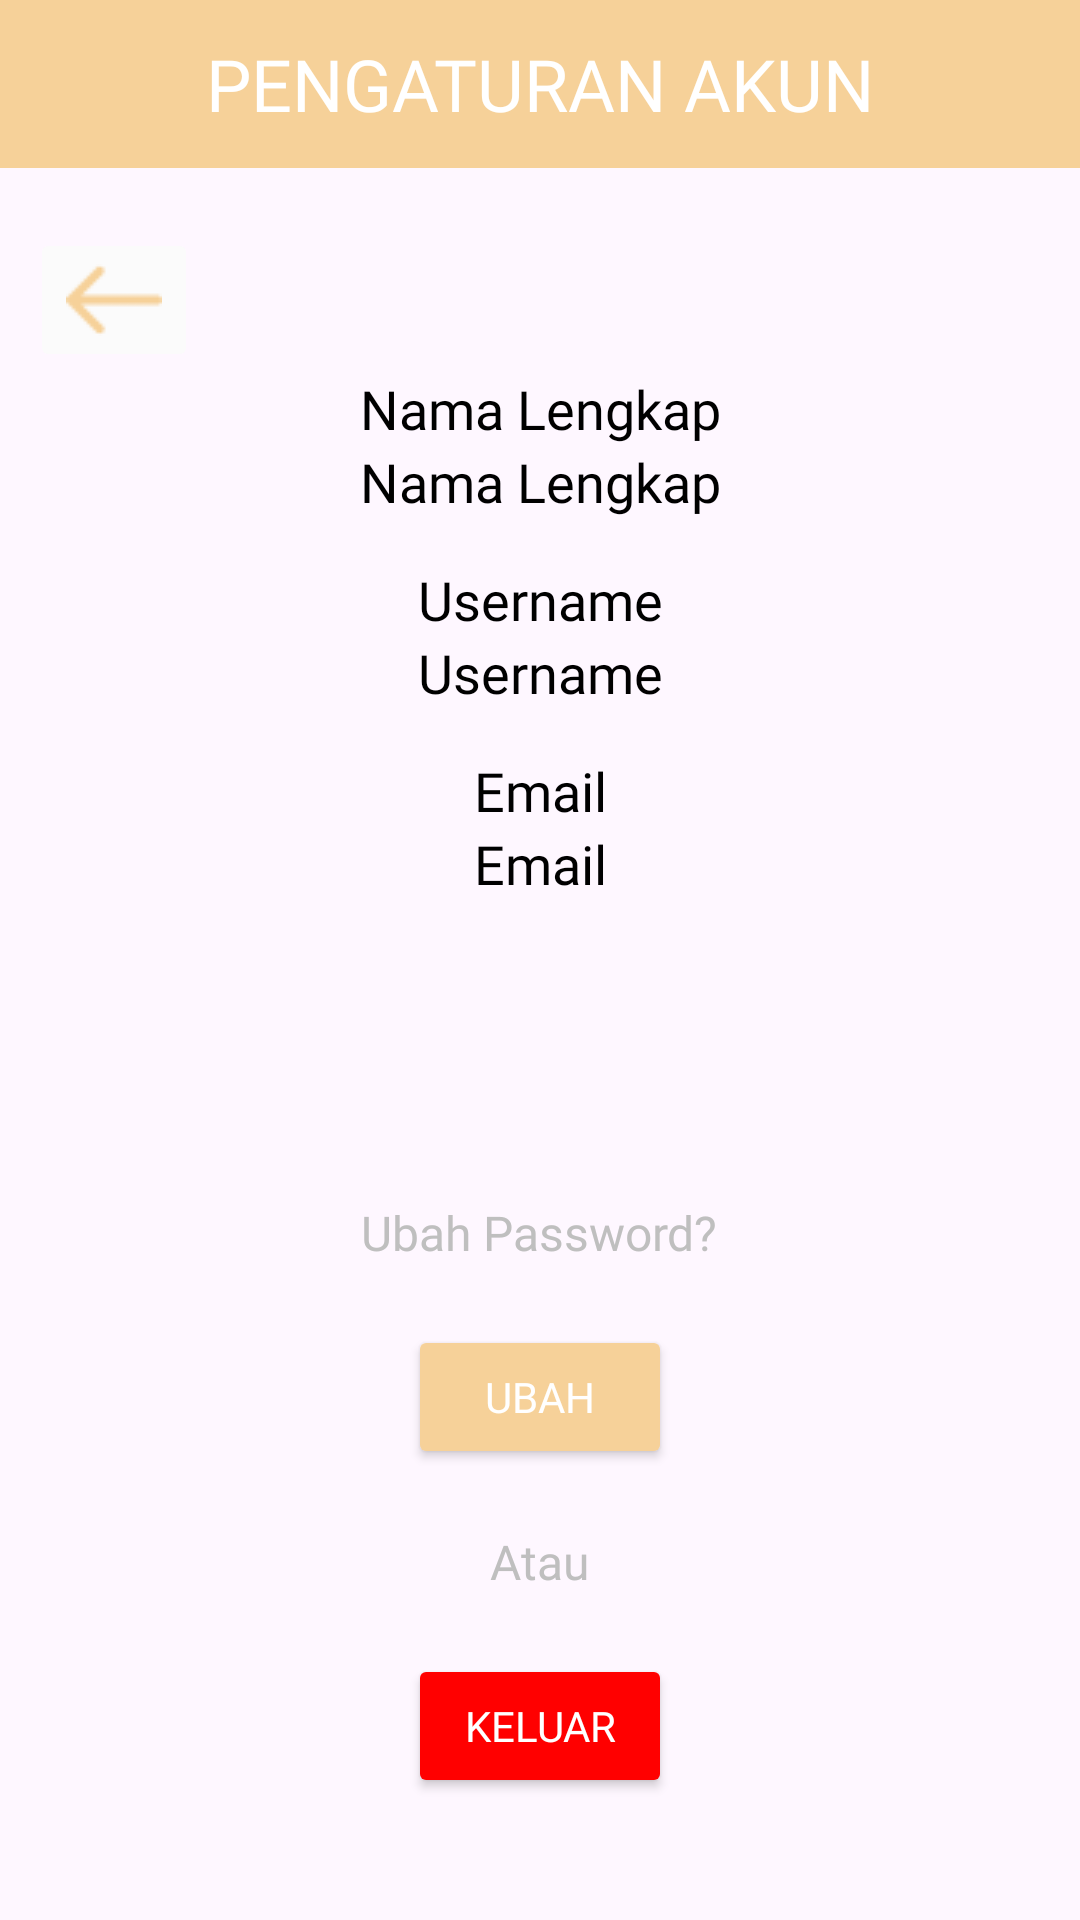

Screen size 1080px x 1920px. Icon name, then its box in pixels as detection(x1, y1, x2, y2):
Back: detection(66, 266, 162, 334)
